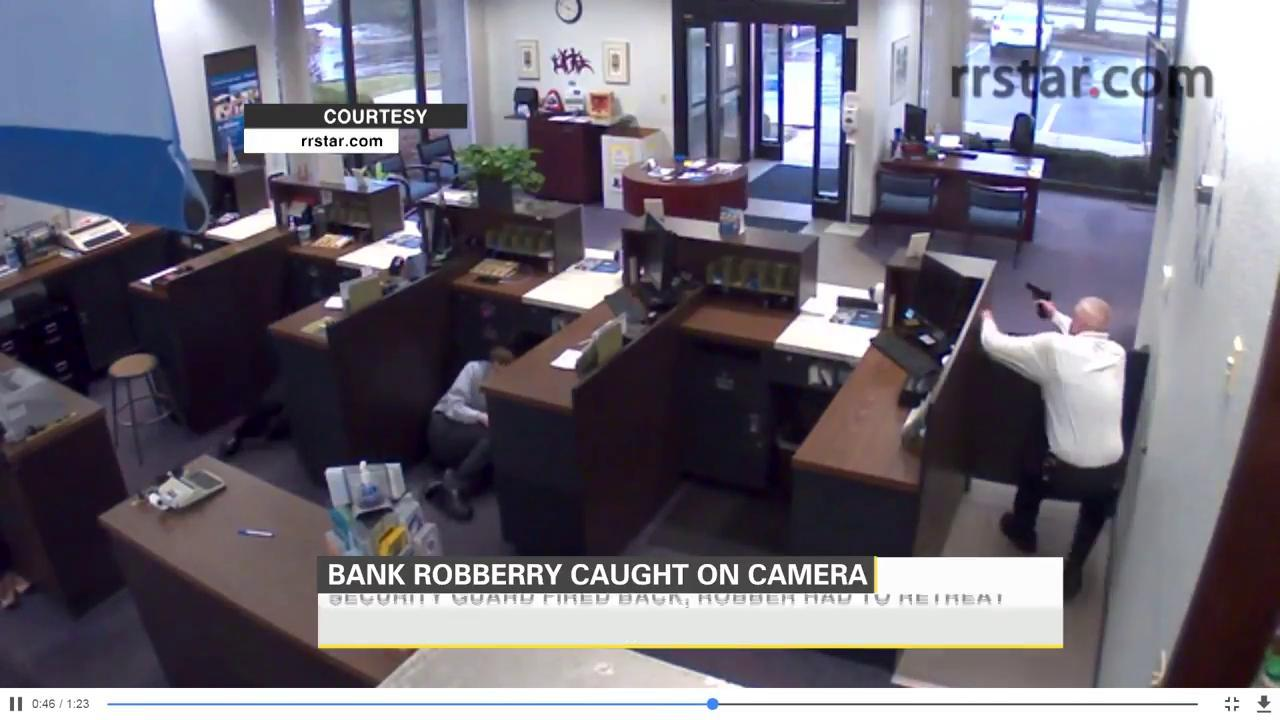gun: (1022, 276, 1060, 322)
